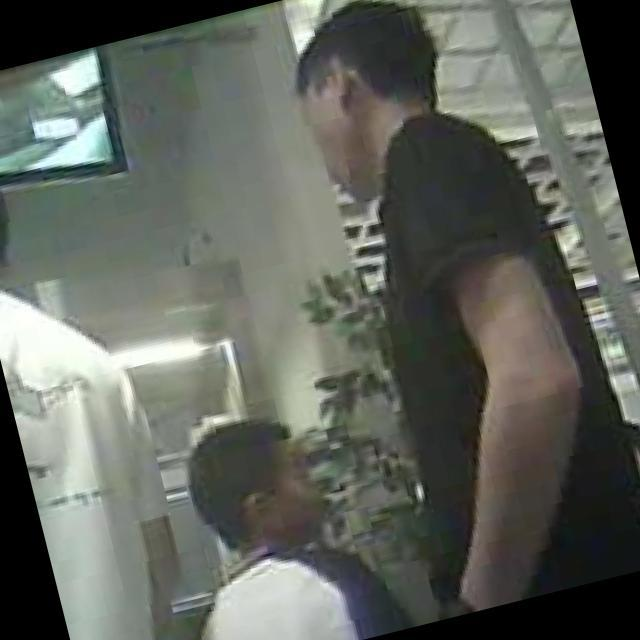person: (270, 0, 640, 625), (0, 145, 206, 640), (132, 387, 429, 640)
